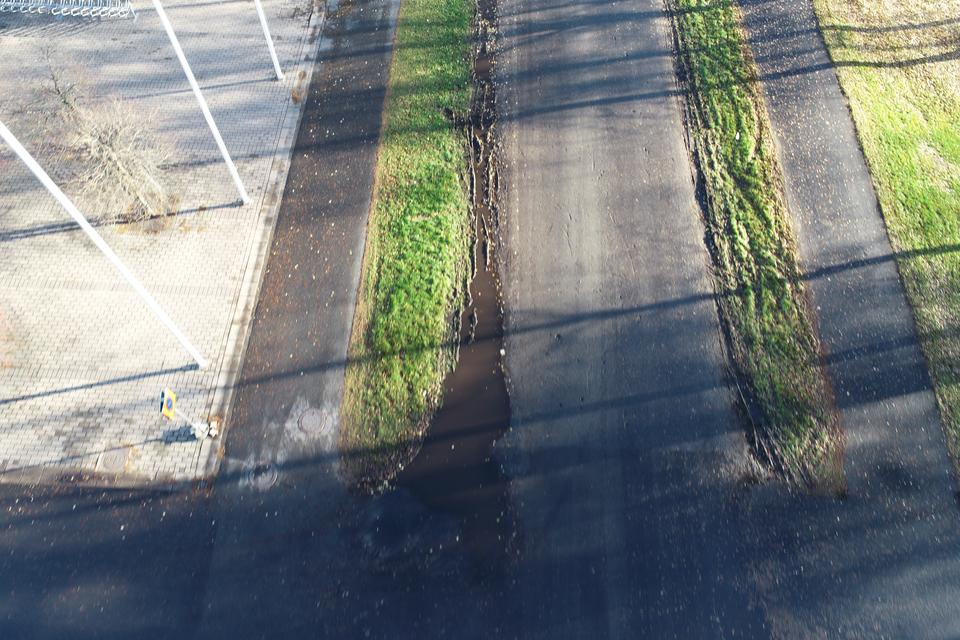intersection: (202, 366, 958, 640)
